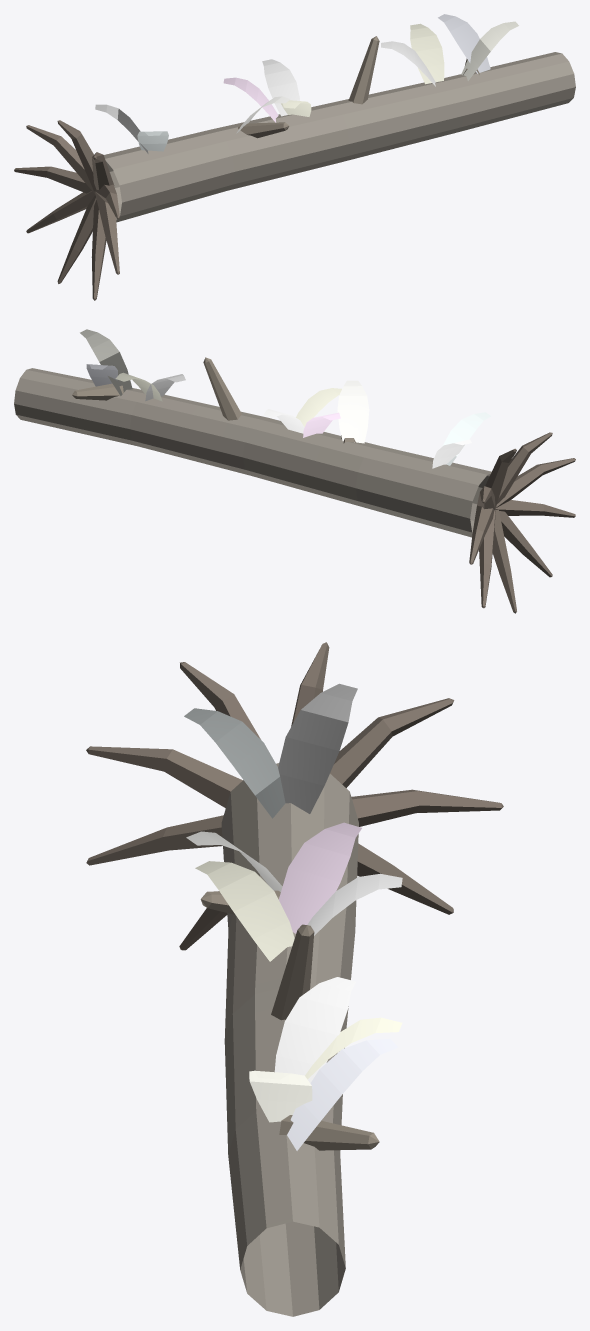
File: log_1.glb
3 views of the same model, one above another, from view 1: azimuth 30°, elevation 25°; view 2: azimuth 150°, elevation 25°; view 3: azimuth 270°, elevation 25° (orthographic). The views are drawn at different scales.
Parts seen in each view (by area): view 1: log_1; view 2: log_1; view 3: log_1.
Boxes of the visible parts, <box> form: log_1: <box>14,14,575,300</box>; log_1: <box>14,329,575,613</box>; log_1: <box>86,642,503,1316</box>.
Size of the model in its own units: 1.09 by 0.3658 by 0.3953.
